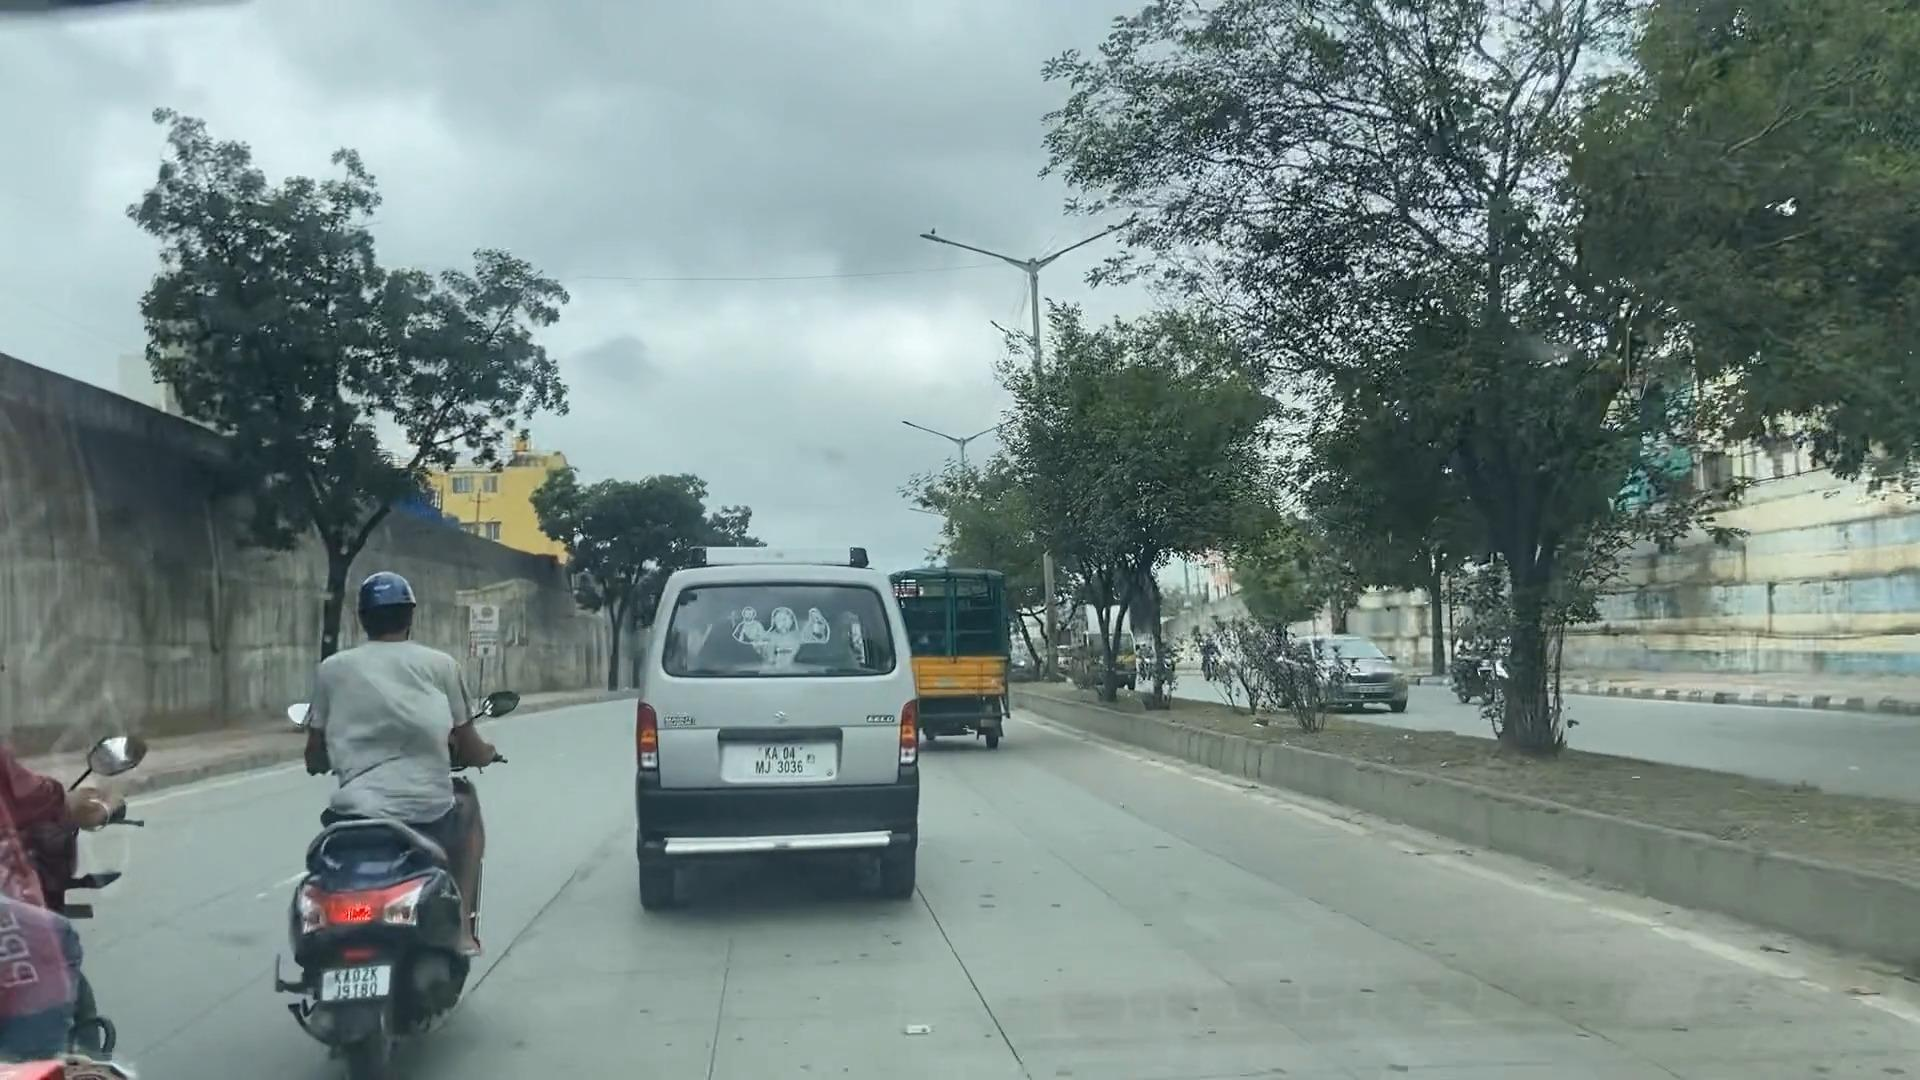LMV: (265, 560, 520, 1064), (646, 530, 926, 890)
